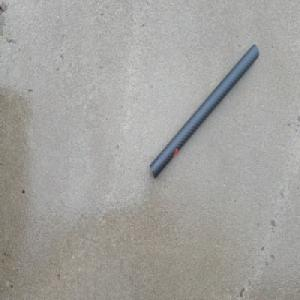LuggagePart: (149, 43, 258, 182)
